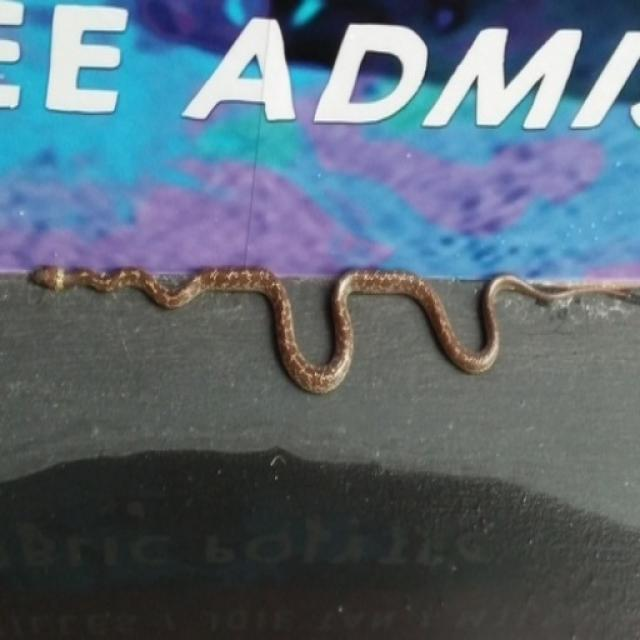snake: (26, 238, 640, 394)
